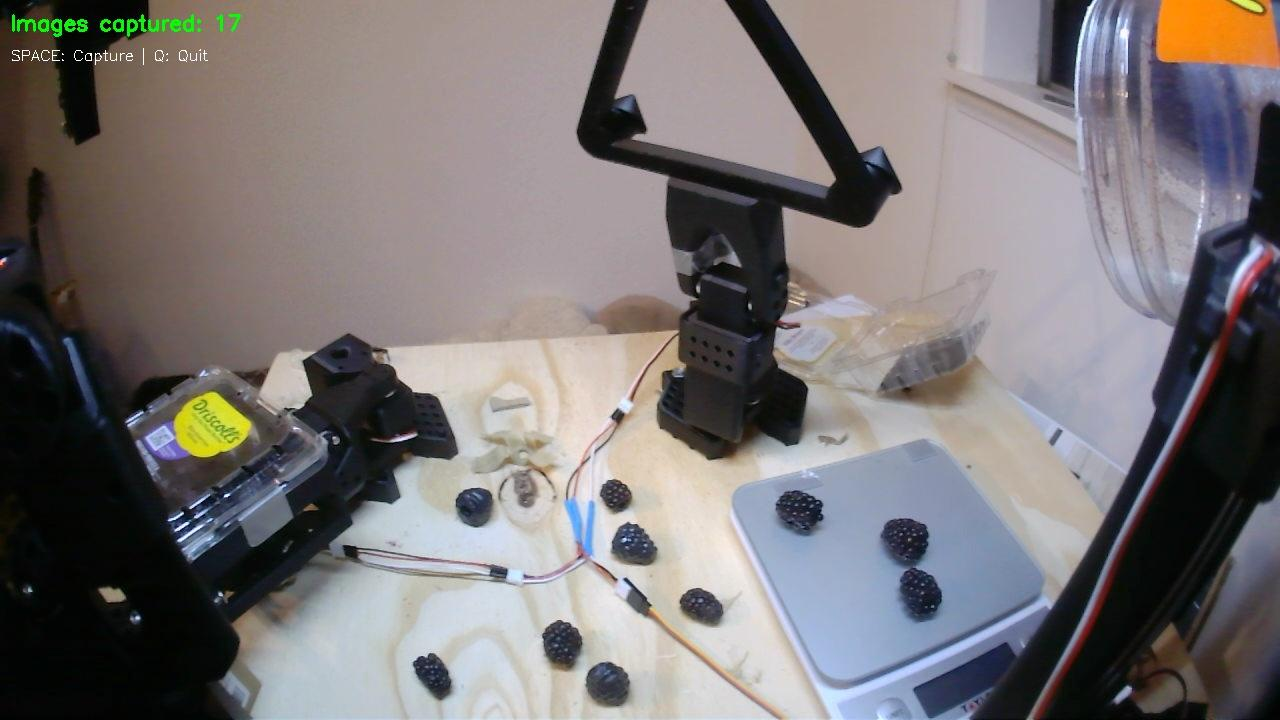berry: (881, 518, 928, 562), (776, 490, 823, 533), (900, 568, 942, 616), (542, 620, 582, 667), (587, 662, 629, 705), (612, 523, 656, 564), (413, 653, 451, 698), (455, 487, 492, 526), (681, 588, 722, 623), (600, 479, 631, 510)
